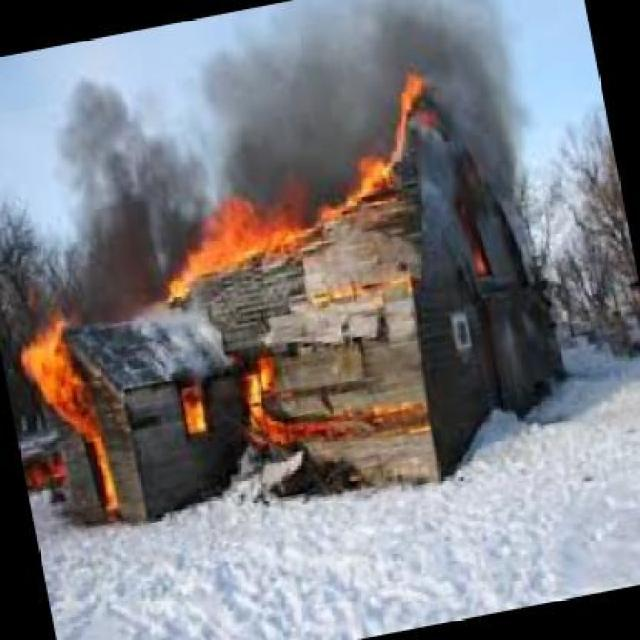Fire: (164, 195, 309, 296), (17, 318, 105, 454), (239, 354, 291, 451), (316, 157, 401, 210), (392, 72, 433, 152), (172, 380, 222, 442)
Smoke: (168, 27, 376, 157), (44, 87, 162, 310), (448, 1, 548, 200)
